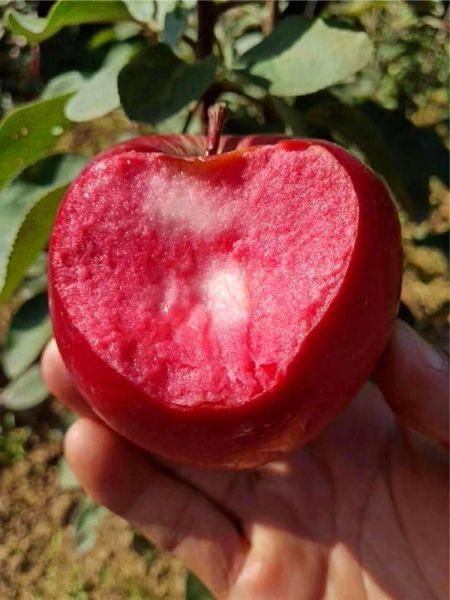apple: (55, 132, 412, 459)
